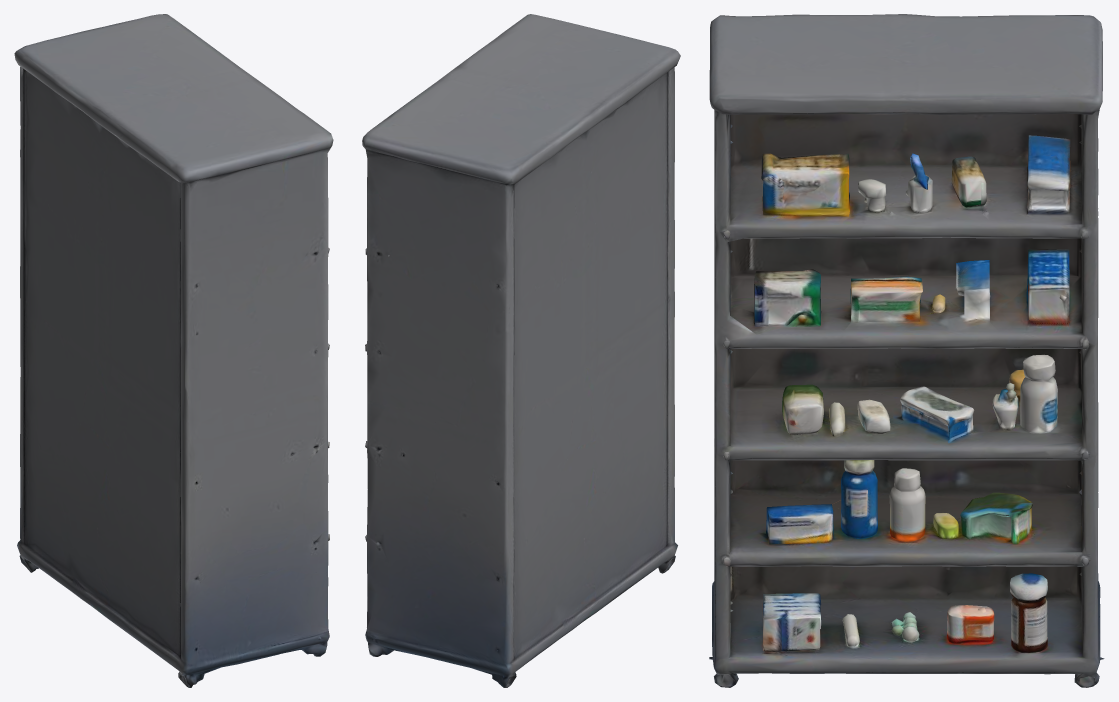
The model's file is pharmacy_shelf.glb.
3 views of the same model, side by side, from view 1: azimuth 30°, elevation 25°; view 2: azimuth 150°, elevation 25°; view 3: azimuth 270°, elevation 25° (orthographic). The views are drawn at different scales.
Visible parts, largest first — view 1: tripo_node_28d4c1fd-f5e6-4e8a-8fe7-0824364389e5; view 2: tripo_node_28d4c1fd-f5e6-4e8a-8fe7-0824364389e5; view 3: tripo_node_28d4c1fd-f5e6-4e8a-8fe7-0824364389e5.
Boxes of the visible parts, x1,y1,x2,y2 form: tripo_node_28d4c1fd-f5e6-4e8a-8fe7-0824364389e5: (14, 14, 333, 687); tripo_node_28d4c1fd-f5e6-4e8a-8fe7-0824364389e5: (362, 14, 680, 687); tripo_node_28d4c1fd-f5e6-4e8a-8fe7-0824364389e5: (709, 14, 1104, 687).
Bounding box in the file's own units: 0.3062 × 1 × 0.6002.
1 material, 1 textured.
